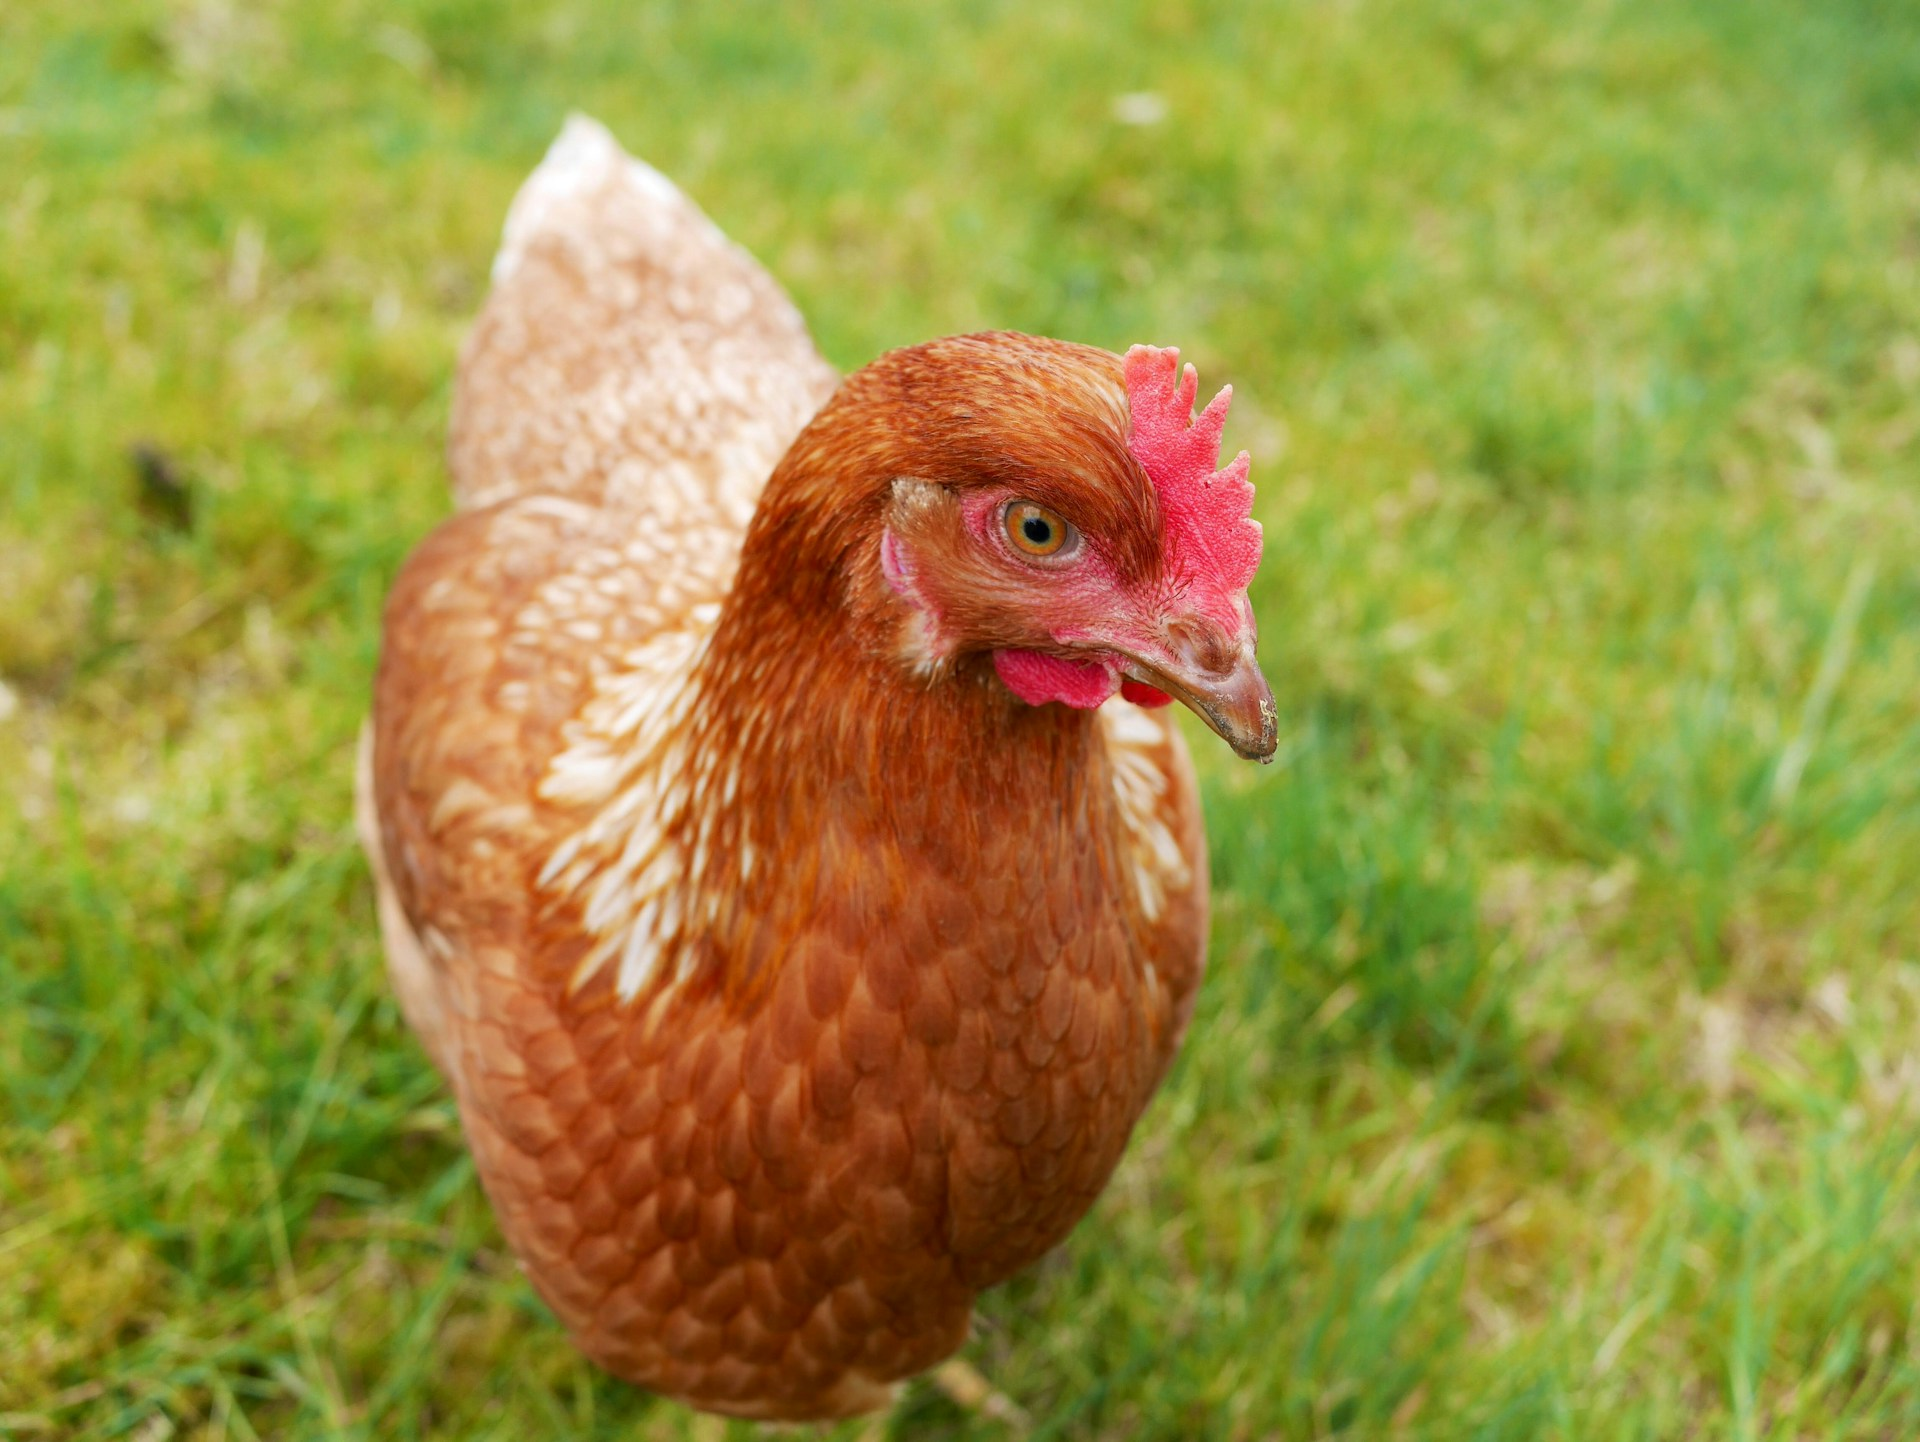hen: (347, 97, 1302, 1442)
